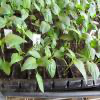Bell_pepper leaf: (73, 60, 88, 86), (86, 60, 99, 86), (6, 33, 29, 45), (21, 57, 37, 72), (57, 13, 70, 27), (47, 59, 56, 78), (27, 49, 42, 60), (44, 6, 53, 23), (80, 32, 95, 42), (85, 48, 96, 61), (38, 58, 52, 68), (39, 21, 50, 33), (11, 52, 23, 63), (1, 62, 11, 75), (50, 3, 61, 14), (67, 28, 81, 36), (8, 15, 17, 27), (0, 7, 11, 16), (54, 51, 67, 58), (66, 1, 74, 12), (22, 0, 31, 9), (21, 10, 29, 20), (45, 46, 51, 57), (0, 16, 6, 27), (52, 36, 56, 49)
